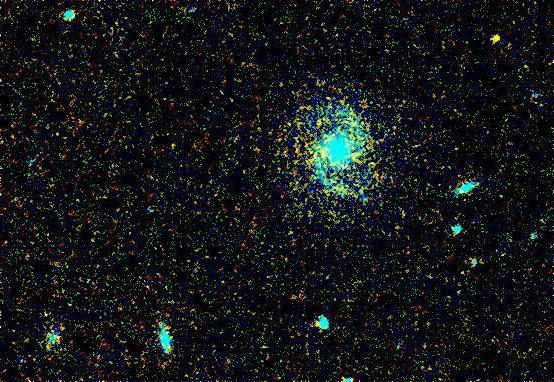star: (480, 24, 510, 54)
